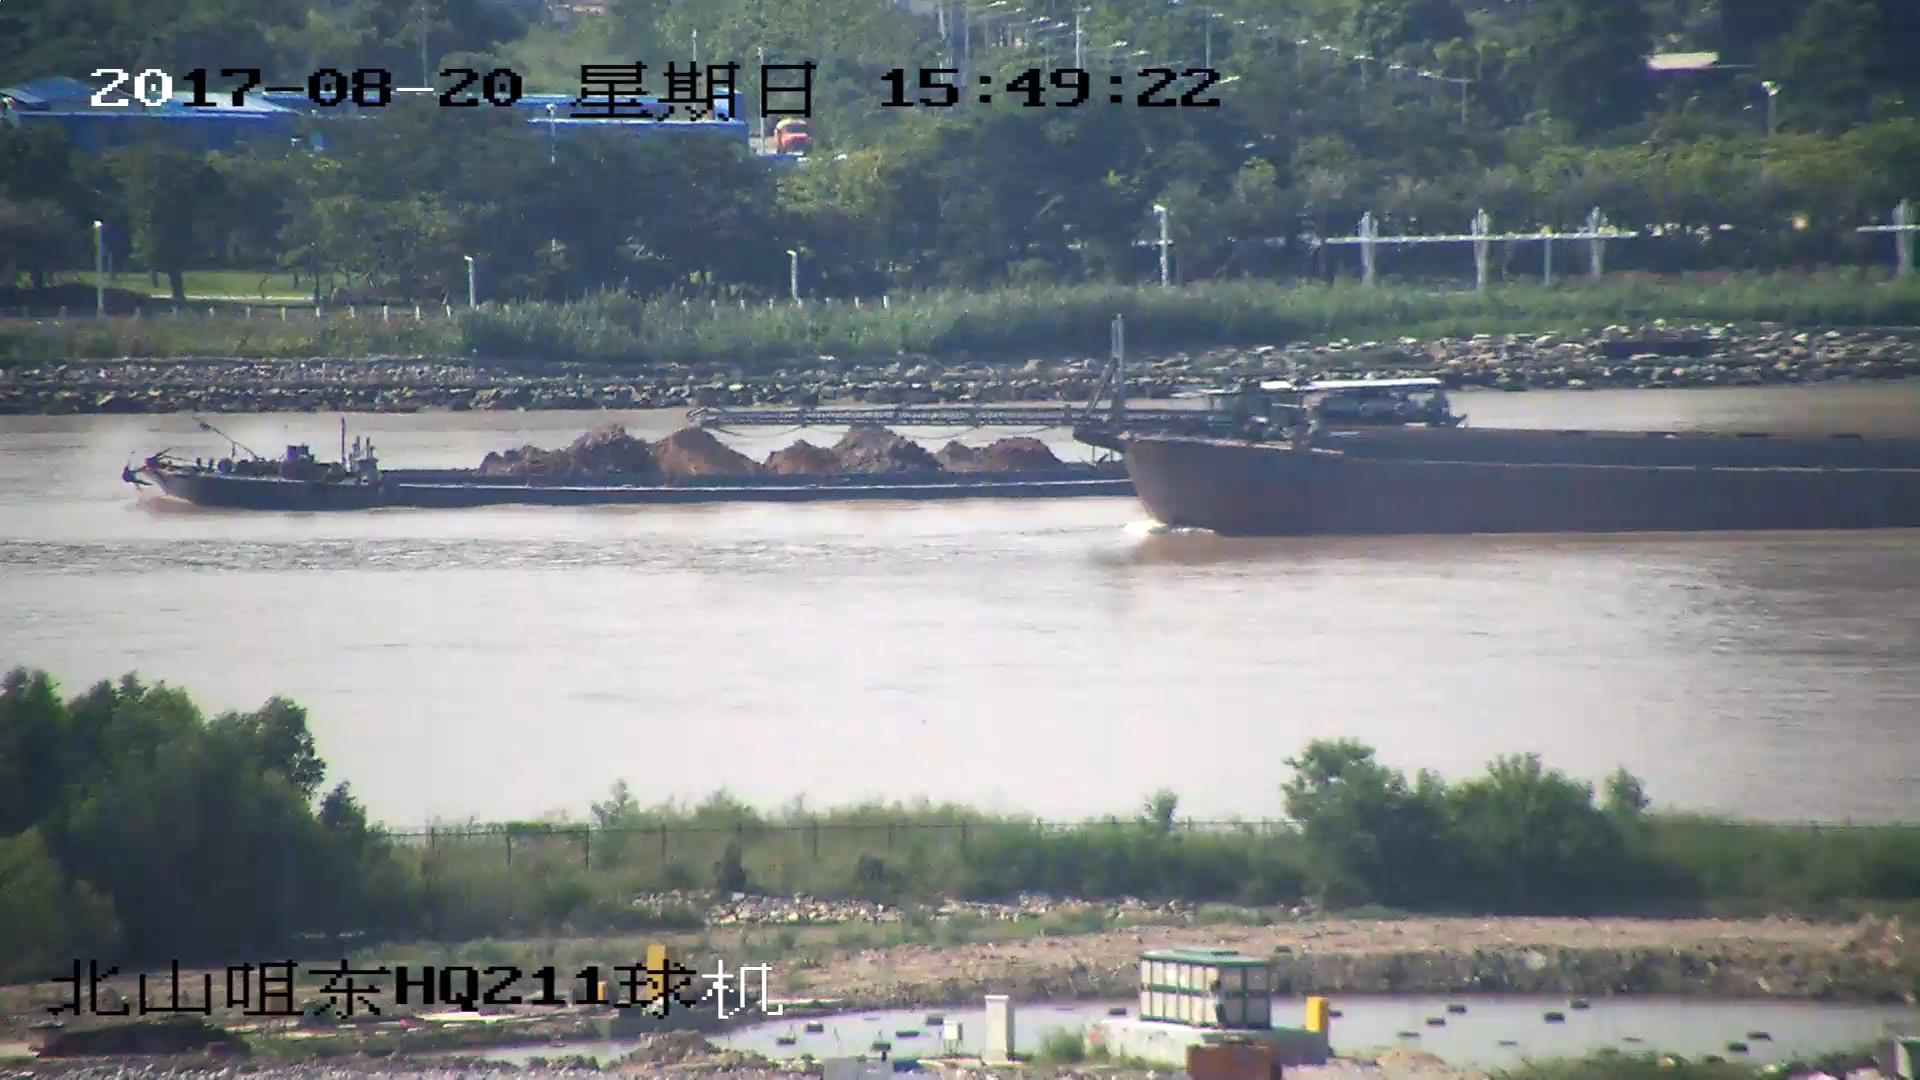Ship: (719, 324, 1920, 541), (124, 367, 1456, 517)
